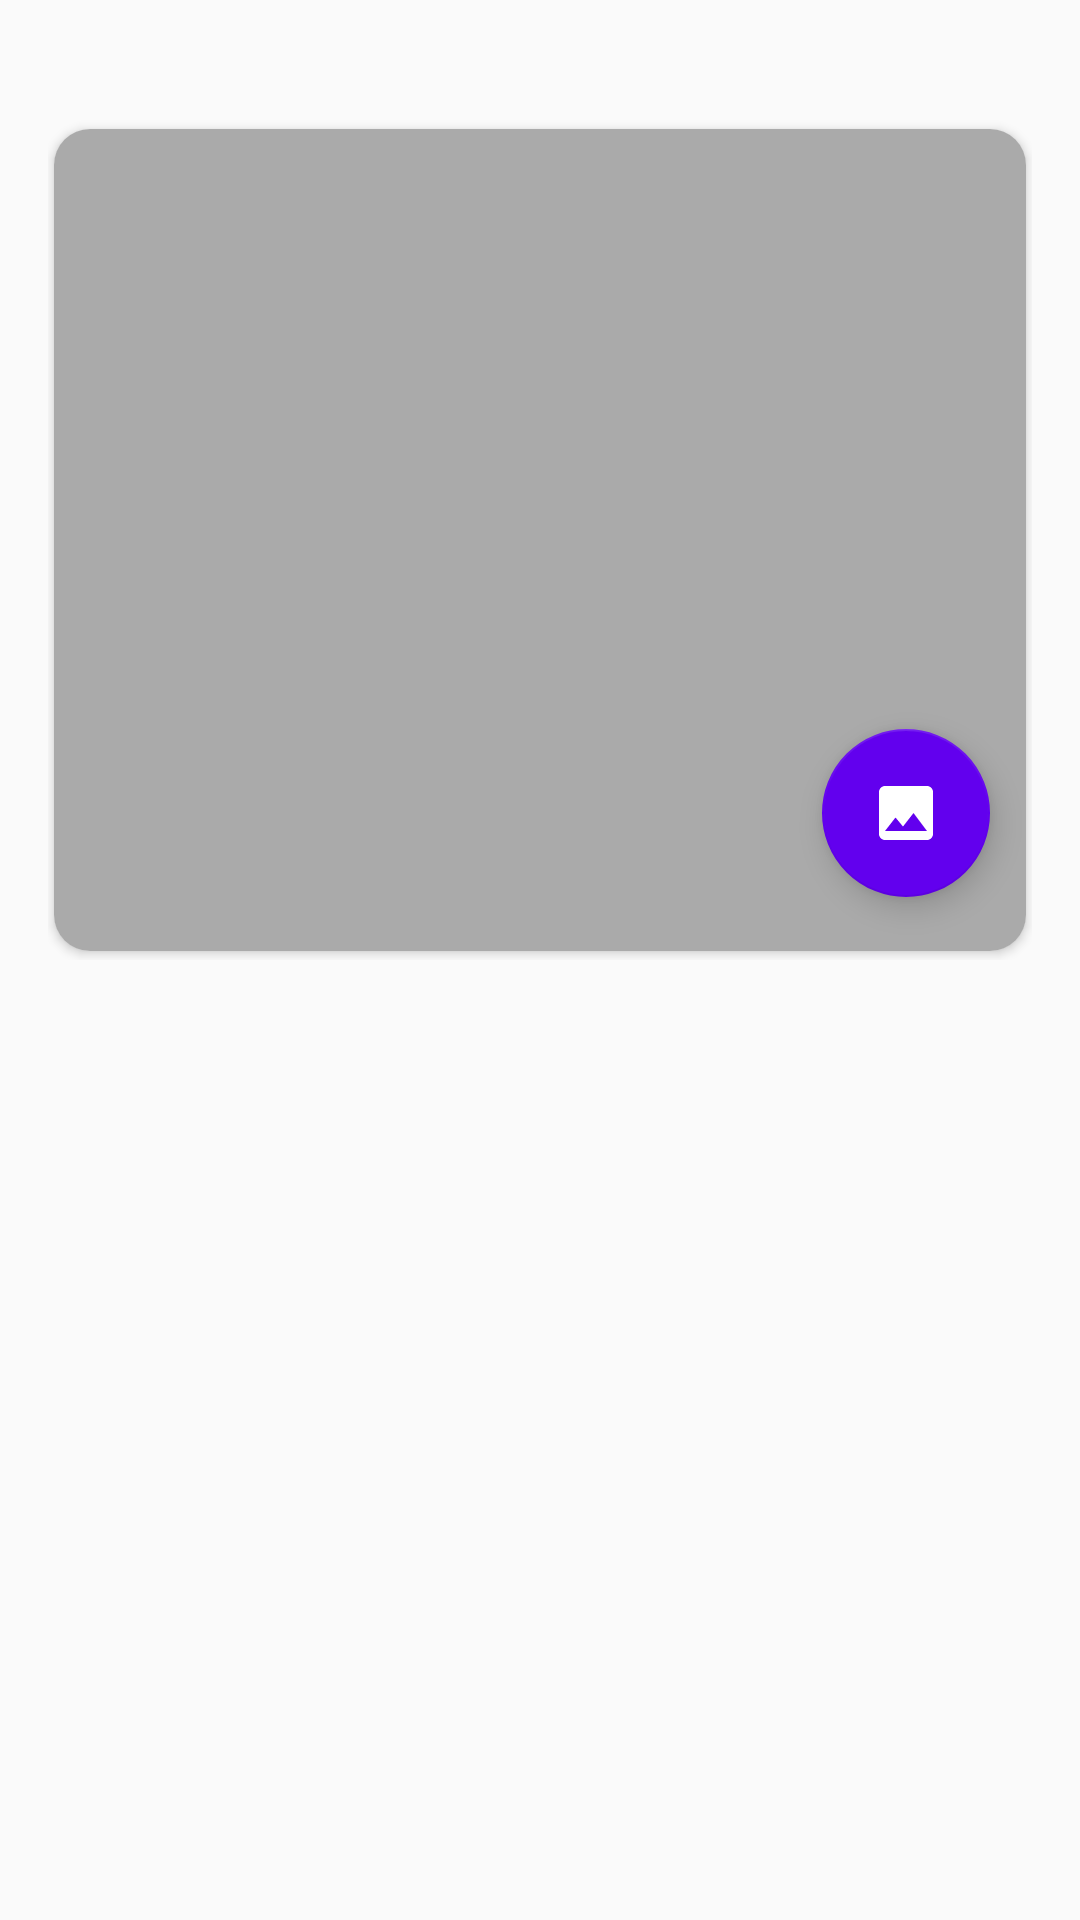

Icon click points for this 1080x1920 phone screenshot, format [x,y]:
photo: [906,813]
